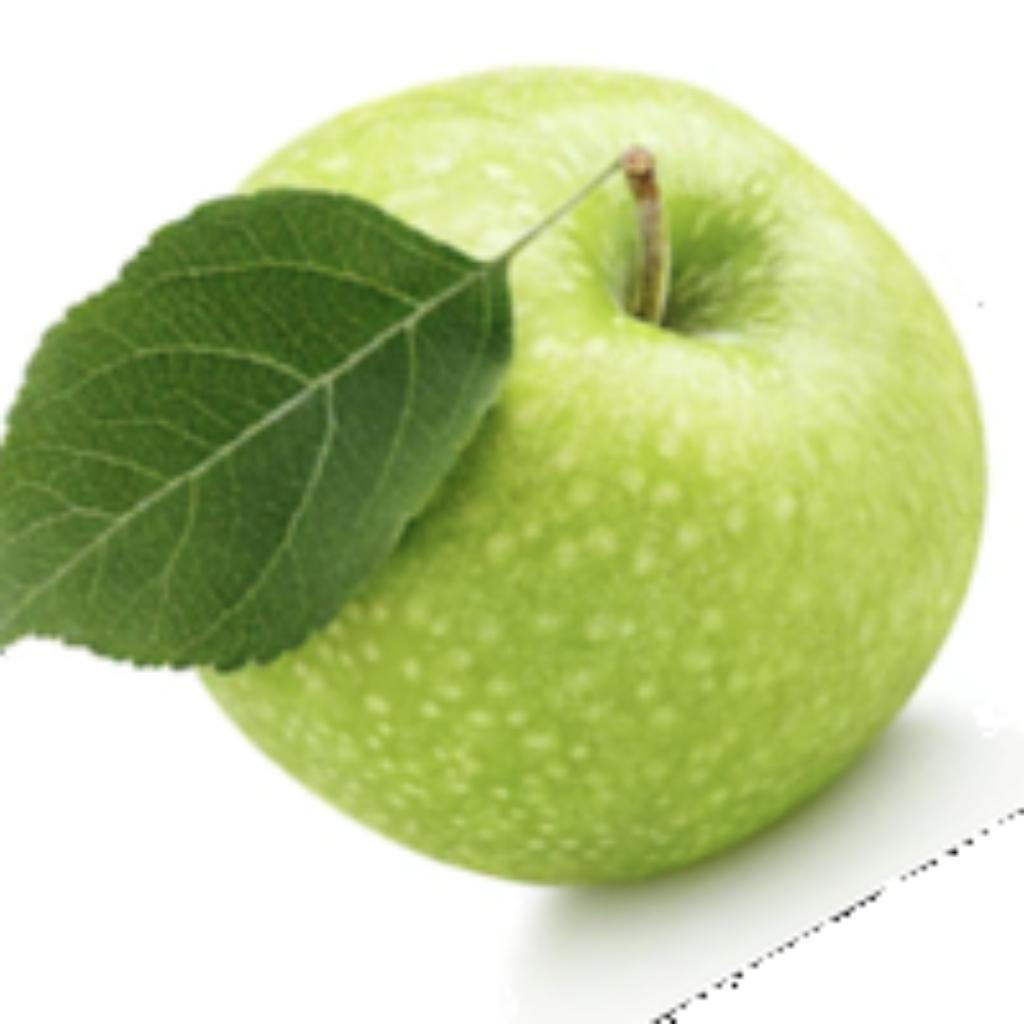apple: (0, 56, 1004, 1019)
